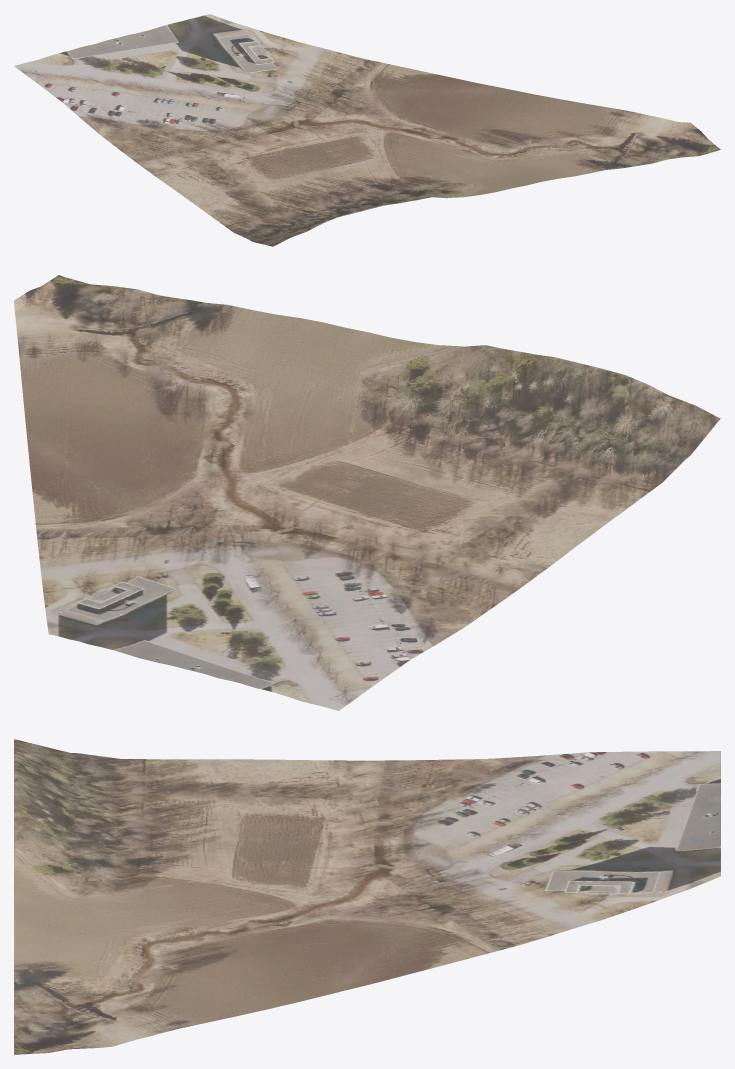
File: CM_Terrain_24493326_6817336.fbx
The picture shows the model from 3 angles, top to bottom: view 1: azimuth 30°, elevation 25°; view 2: azimuth 150°, elevation 25°; view 3: azimuth 270°, elevation 25°; orthographic projection. The views are drawn at different scales.
Visible parts, largest first — view 1: CM_Terrain_24493326_6817336_LOD0; view 2: CM_Terrain_24493326_6817336_LOD0; view 3: CM_Terrain_24493326_6817336_LOD0.
Boxes of the visible parts, <box> form: CM_Terrain_24493326_6817336_LOD0: <box>14,14,720,246</box>; CM_Terrain_24493326_6817336_LOD0: <box>14,275,720,710</box>; CM_Terrain_24493326_6817336_LOD0: <box>14,739,720,1054</box>.
Size of what is drawn, in the model's own units: 205 by 13.1 by 205.
